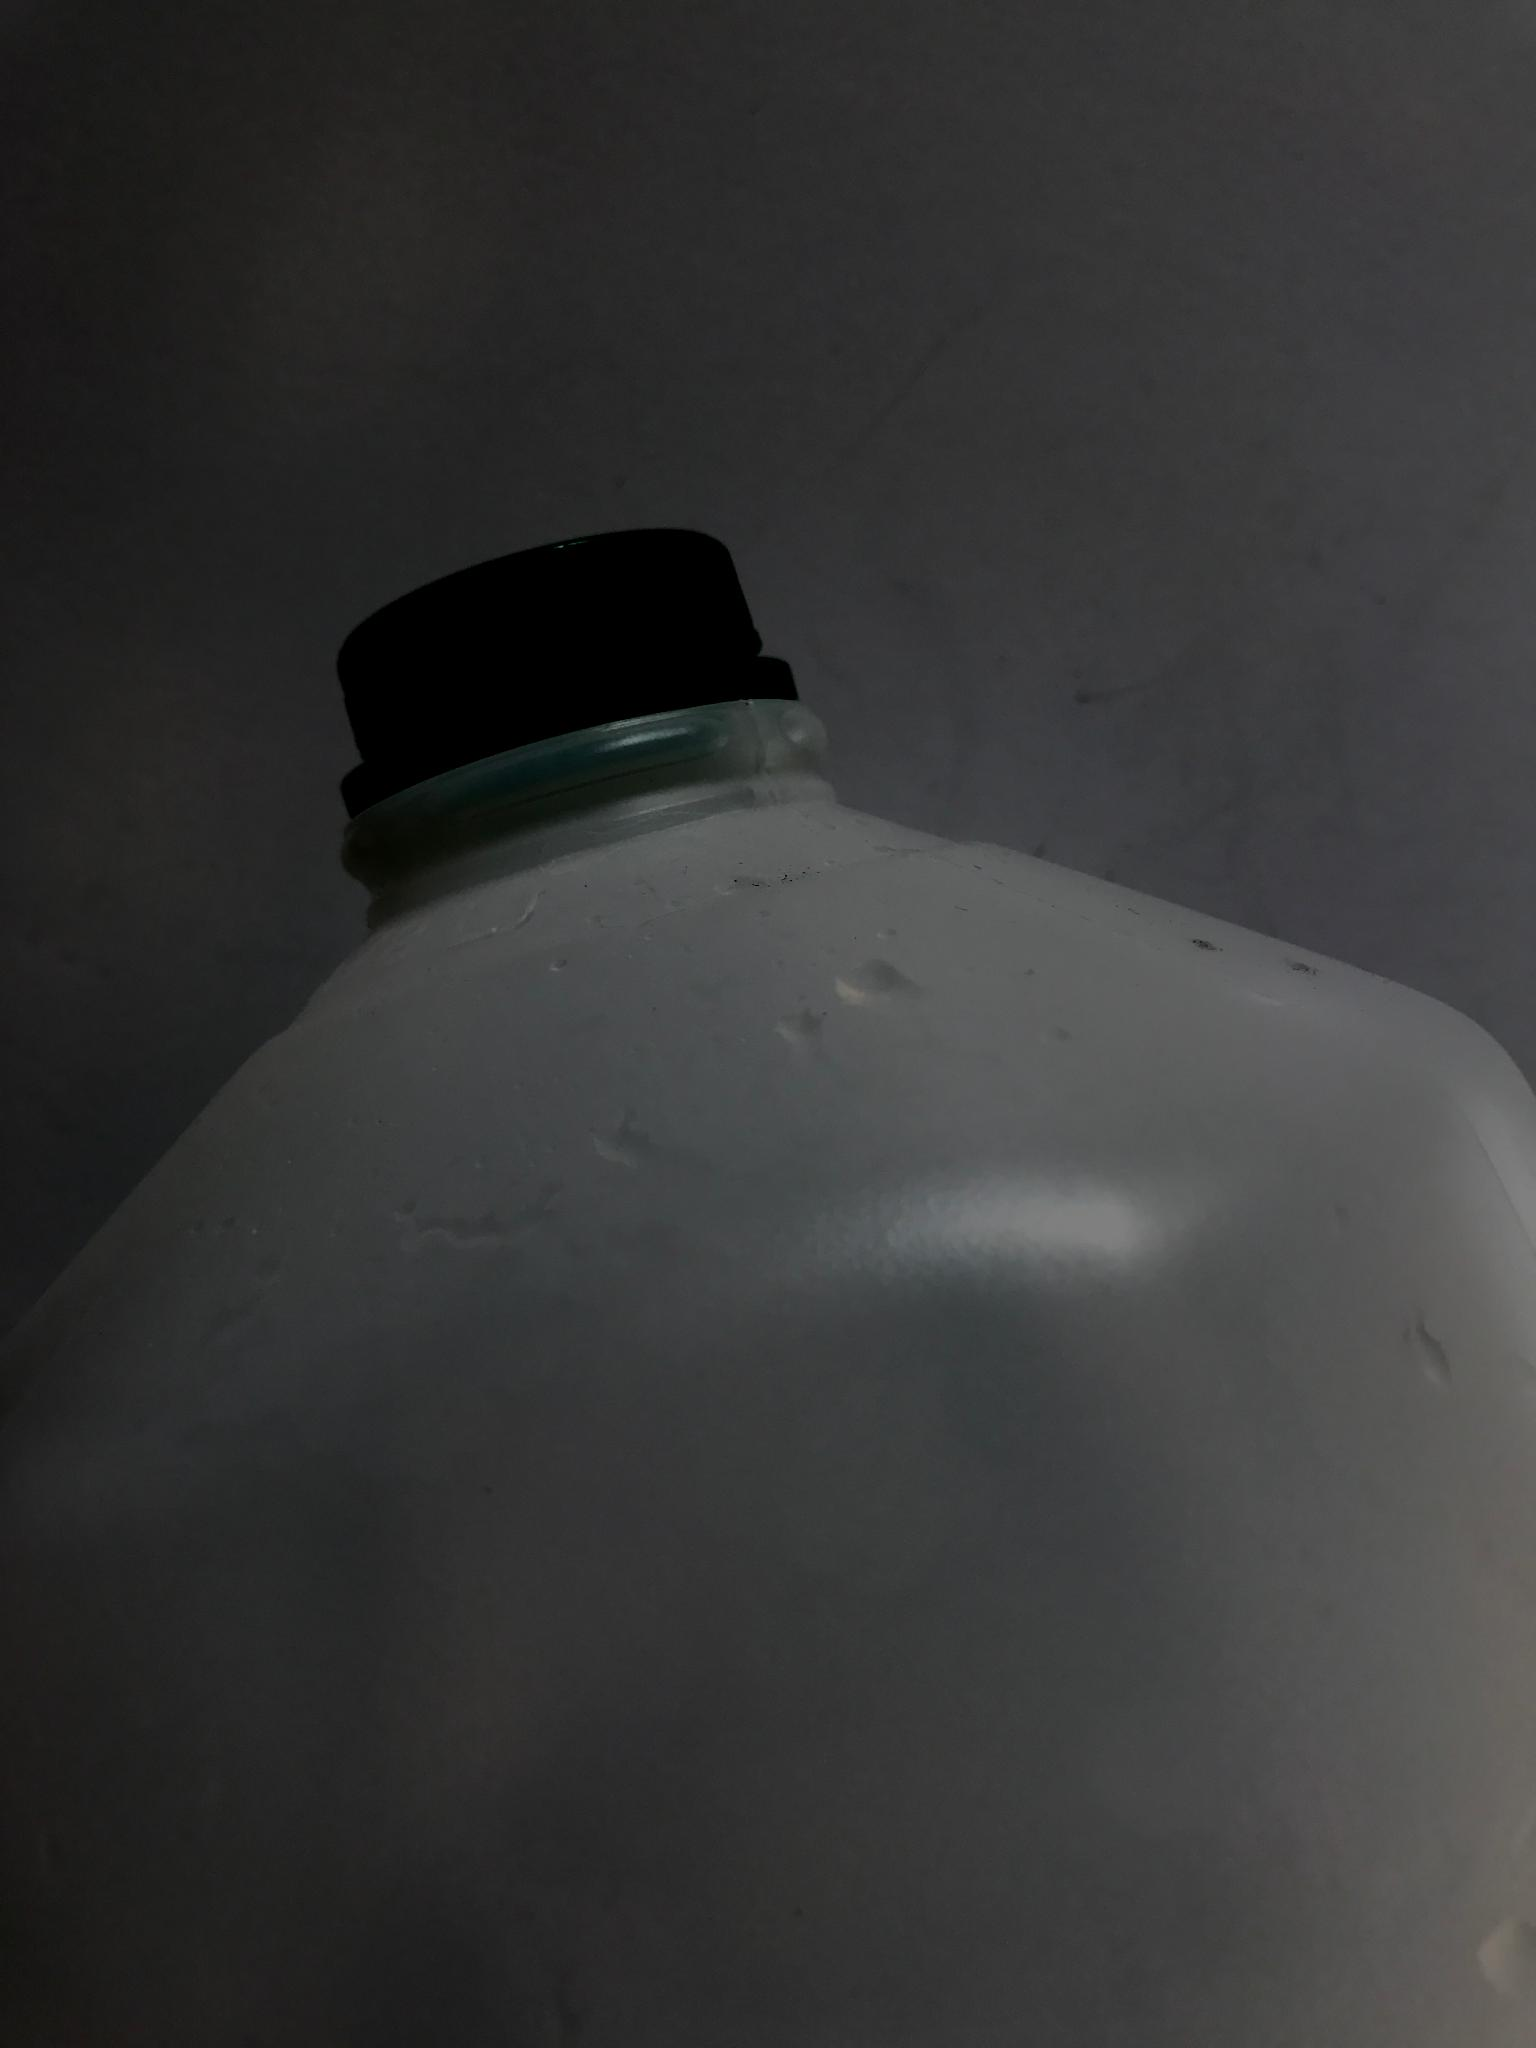Plastic: (0, 485, 1534, 2046)
